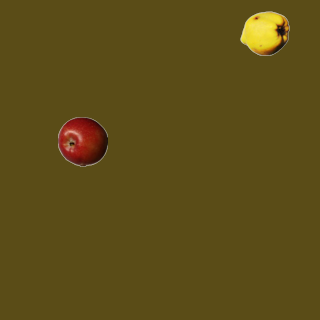Apple Braeburn: (57, 116, 107, 166)
Quince: (239, 8, 289, 58)
